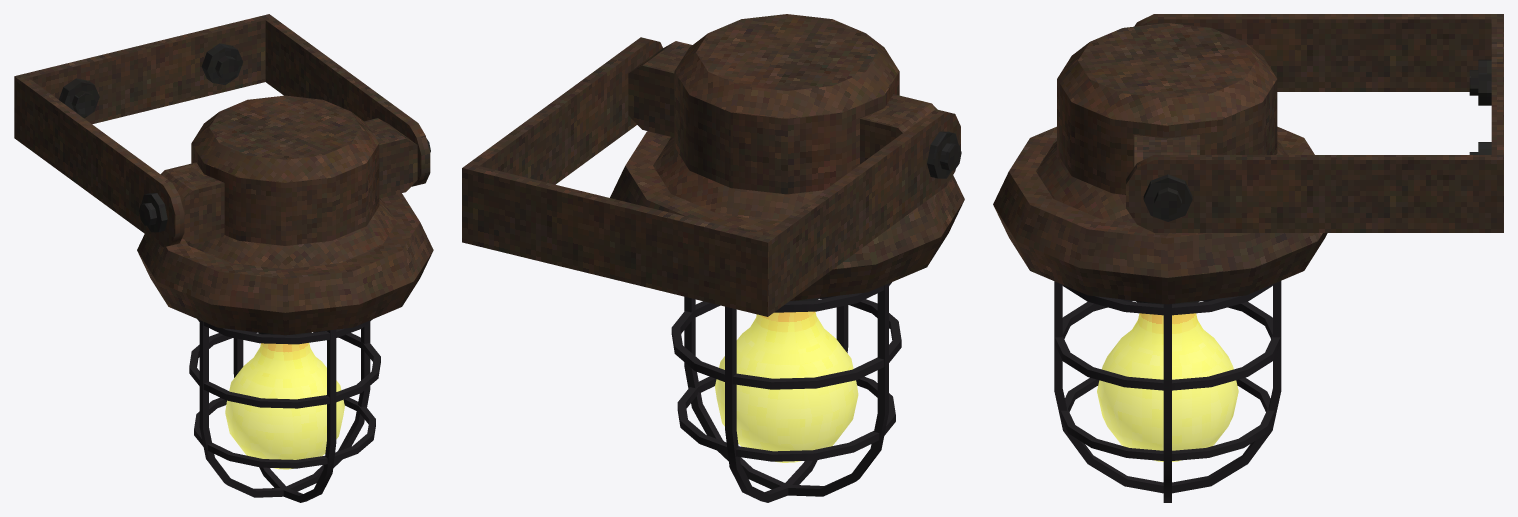
The model's file is lamp_mx_1_b_on.glb.
The picture shows the model from 3 angles, left to right: view 1: azimuth 30°, elevation 25°; view 2: azimuth 150°, elevation 25°; view 3: azimuth 270°, elevation 25°; orthographic projection. The views are drawn at different scales.
Parts seen in each view (by area): view 1: lamp_mx_1_b_on; view 2: lamp_mx_1_b_on; view 3: lamp_mx_1_b_on.
Boxes of the visible parts, x1,y1,x2,y2 form: lamp_mx_1_b_on: (14, 14, 433, 502); lamp_mx_1_b_on: (462, 14, 964, 502); lamp_mx_1_b_on: (993, 14, 1503, 502).
Size of the model in its own units: 0.1876 by 0.2352 by 0.2522.
3 materials, 3 textured.
